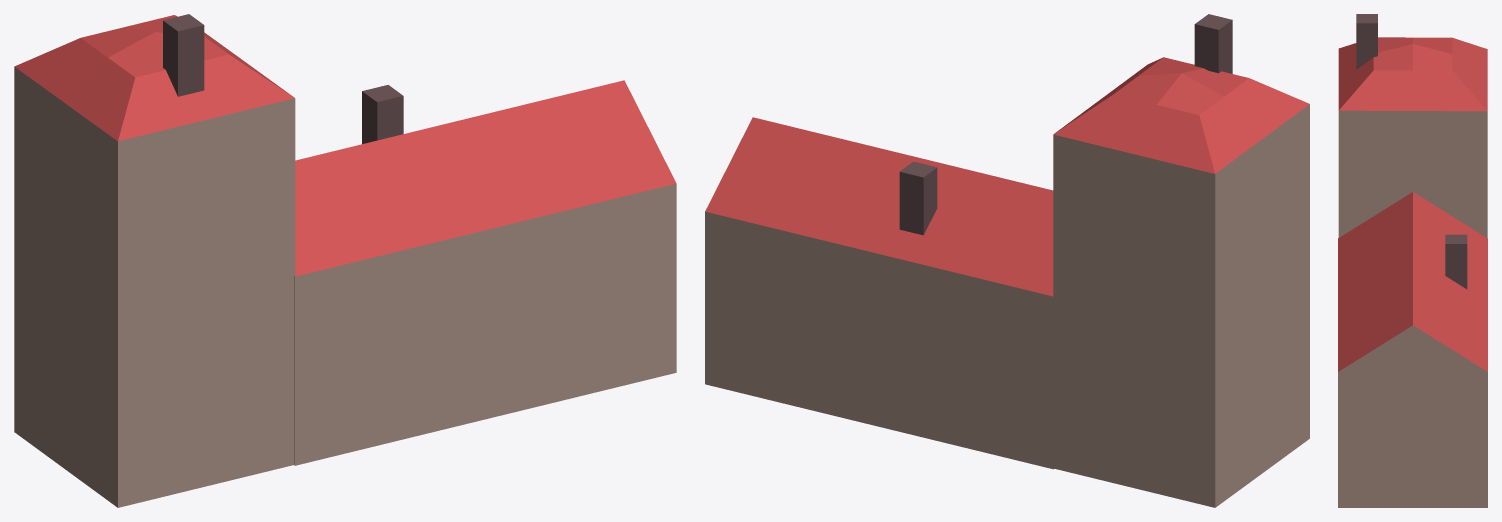
Rendered from house5.fbx.
3 renders of one model, left to right at view 1: azimuth 30°, elevation 25°; view 2: azimuth 150°, elevation 25°; view 3: azimuth 270°, elevation 25°, orthographic. The views are drawn at different scales.
Visible parts, largest first — view 1: House5; view 2: House5; view 3: House5.
Boxes of the visible parts, <box> form: House5: <box>14,14,676,507</box>; House5: <box>705,14,1309,507</box>; House5: <box>1338,14,1487,507</box>.
Size of the model in its own units: 72.44 by 23.46 by 55.87.
